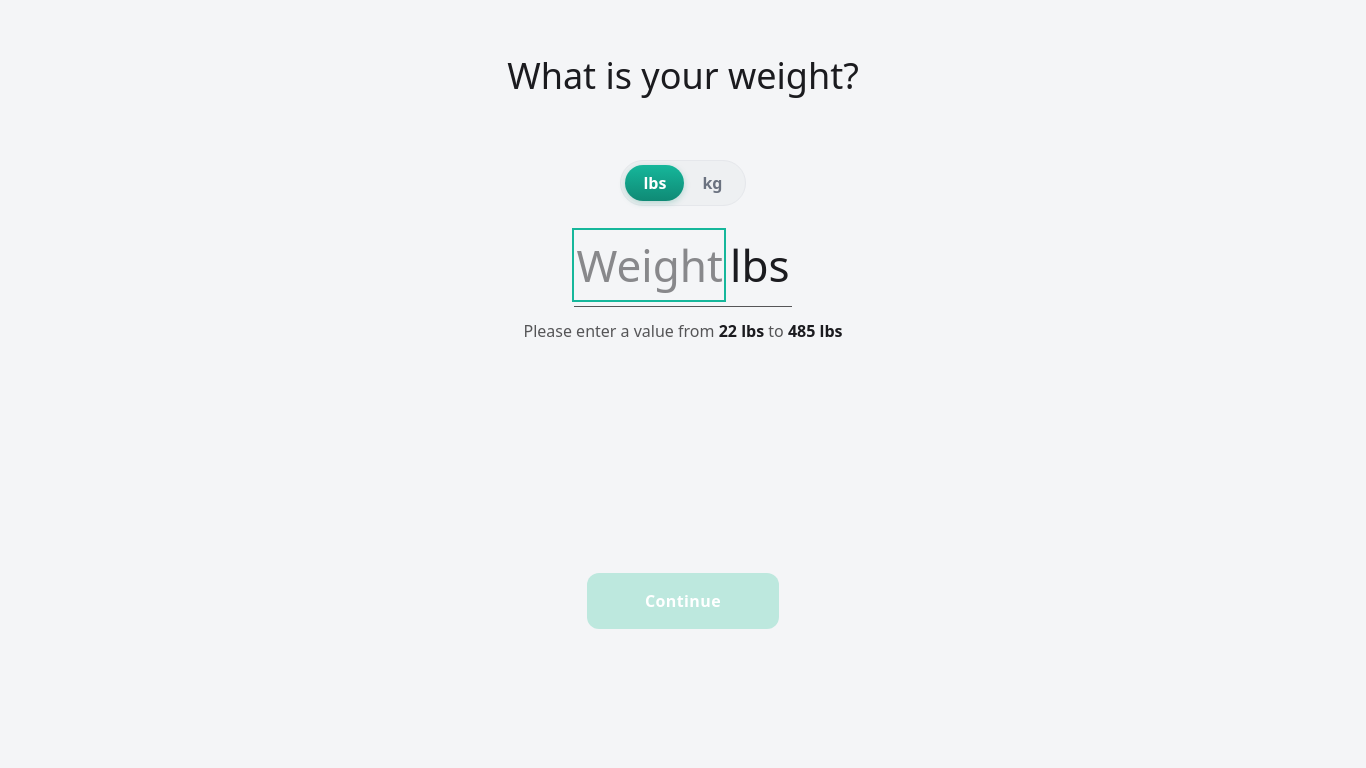
Test: WeightPage — goal step › shows the goal insight when a valid goal is entered
Type "200" into the field named "Your weight in lbs" at (649, 265), box [576,232,722,298]
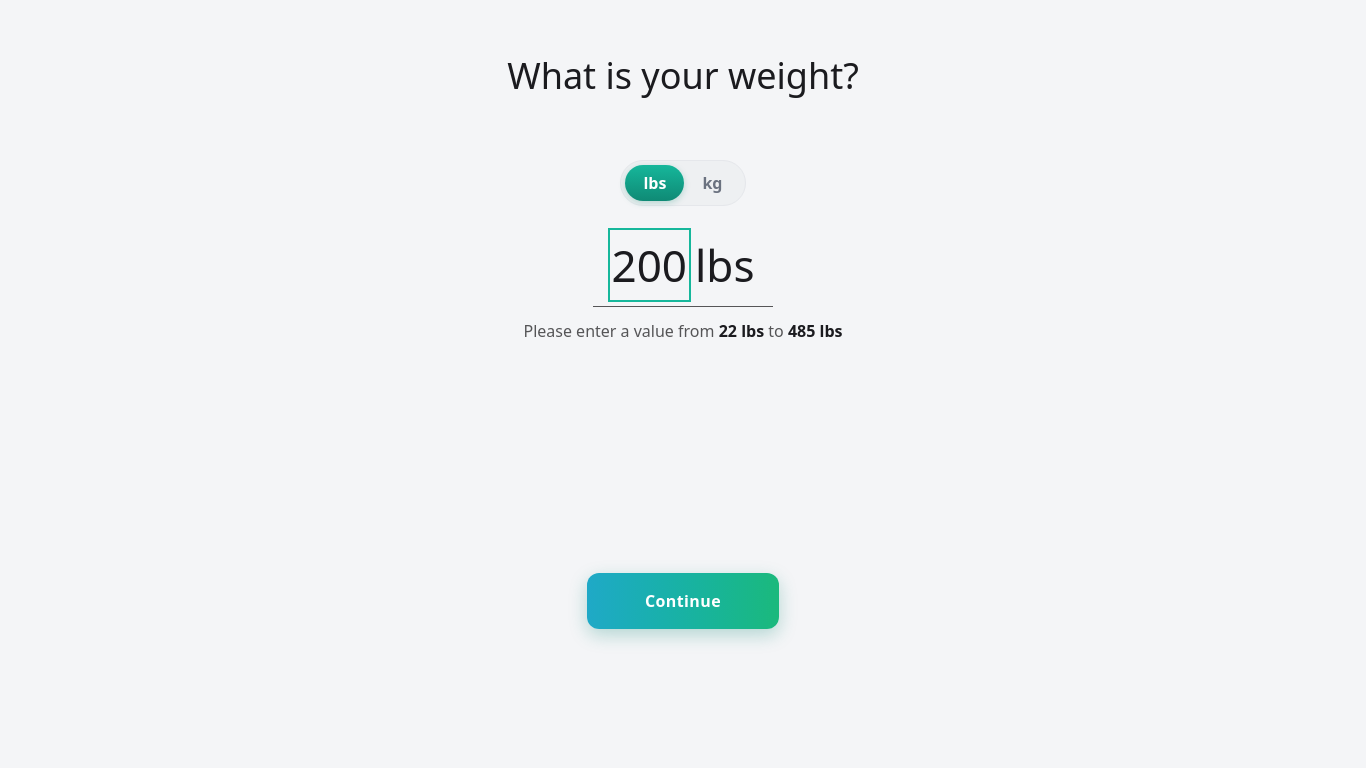
Click the button "Continue" at (683, 601), box [587,573,779,629]
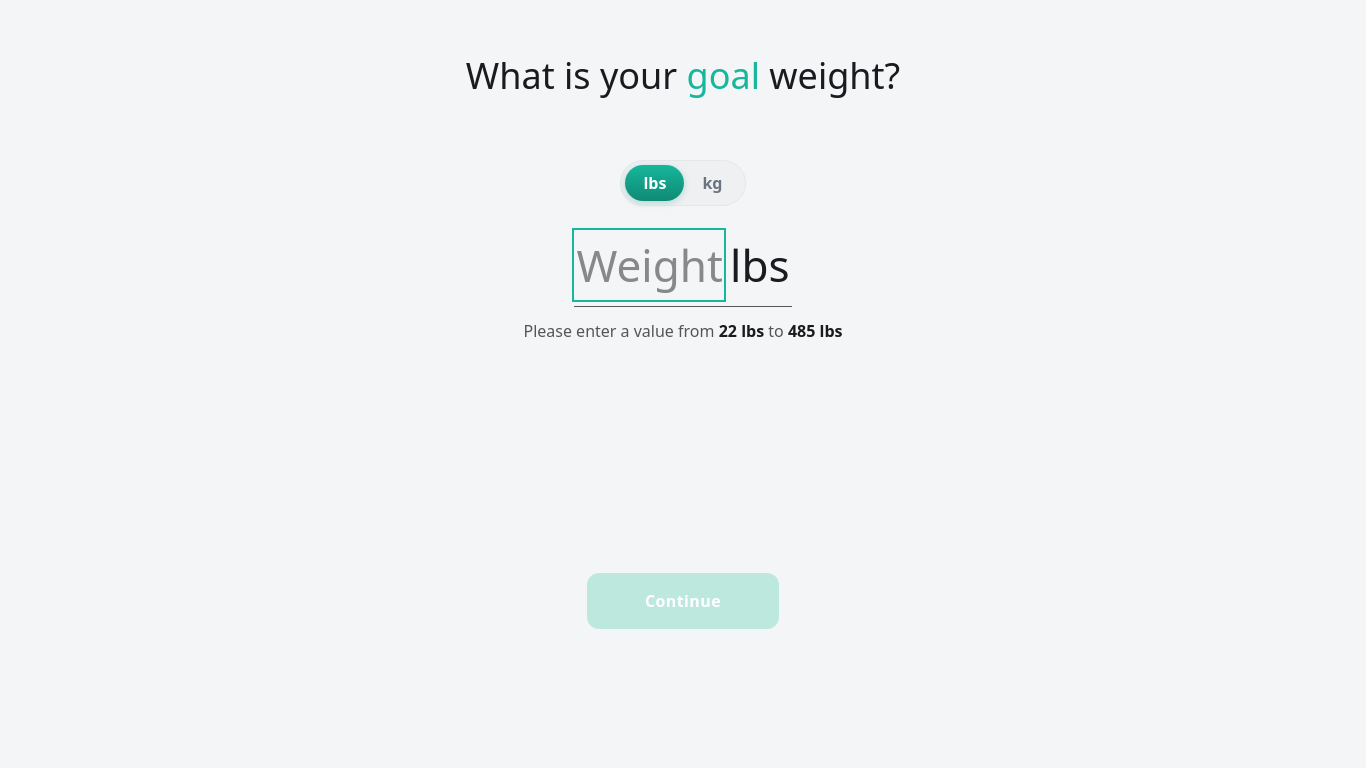
Type "170" into the field named "Goal weight in lbs" at (649, 265), box [576,232,722,298]
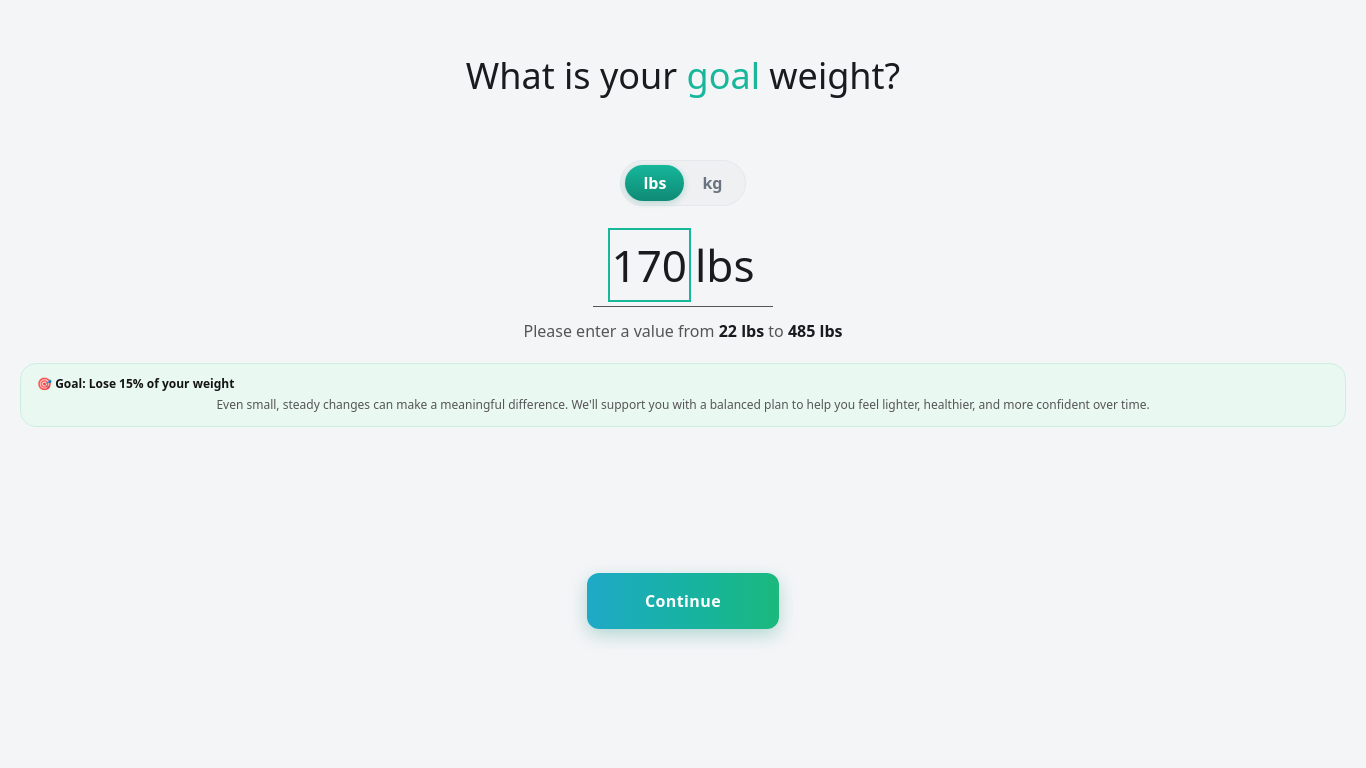
Expected: the text "🎯 Goal: Lose 15% of your weight" is shown, [37,375,234,392]
